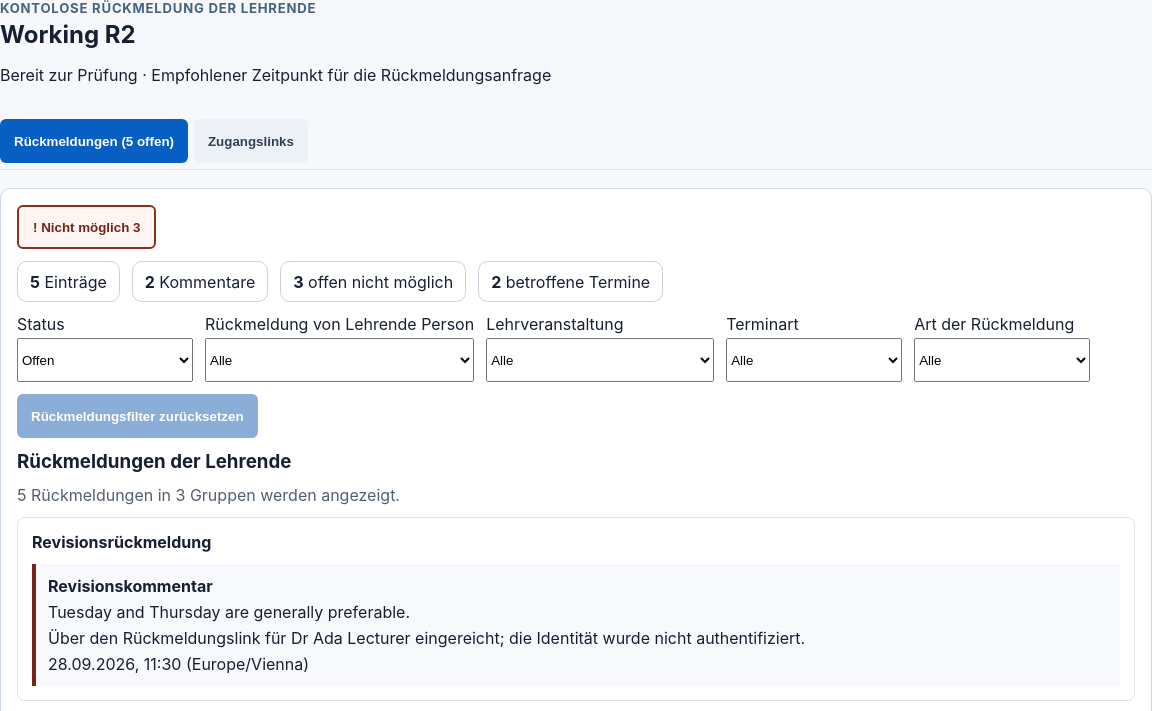
Test: LecturerReviewManagement planner feedback filter › counts repeated impossible items separately and affected sessions distinctly
Select "Nicht möglich" in the dropdown labelled "Art der Rückmeldung" at {"x": 1002, "y": 360}, box top-left (914, 338), bottom-right (1090, 382)
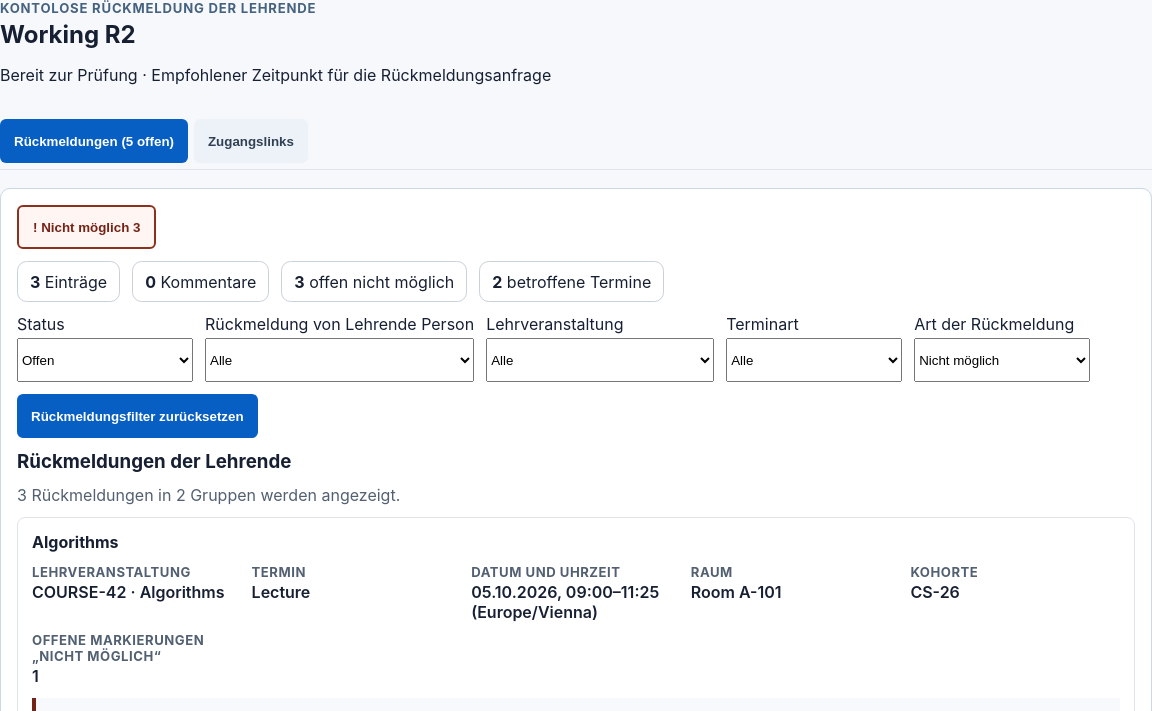
Check: the element with class "coordination-counters" reads "3 Einträge 0 Kommentare 3 offen nicht möglich 2 betroffene Termine", box top-left (17, 261), bottom-right (664, 302)
